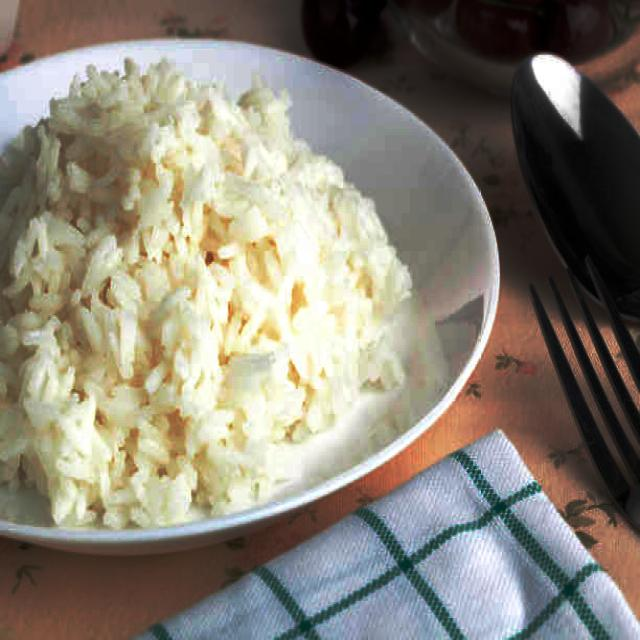rice: (0, 55, 411, 533)
